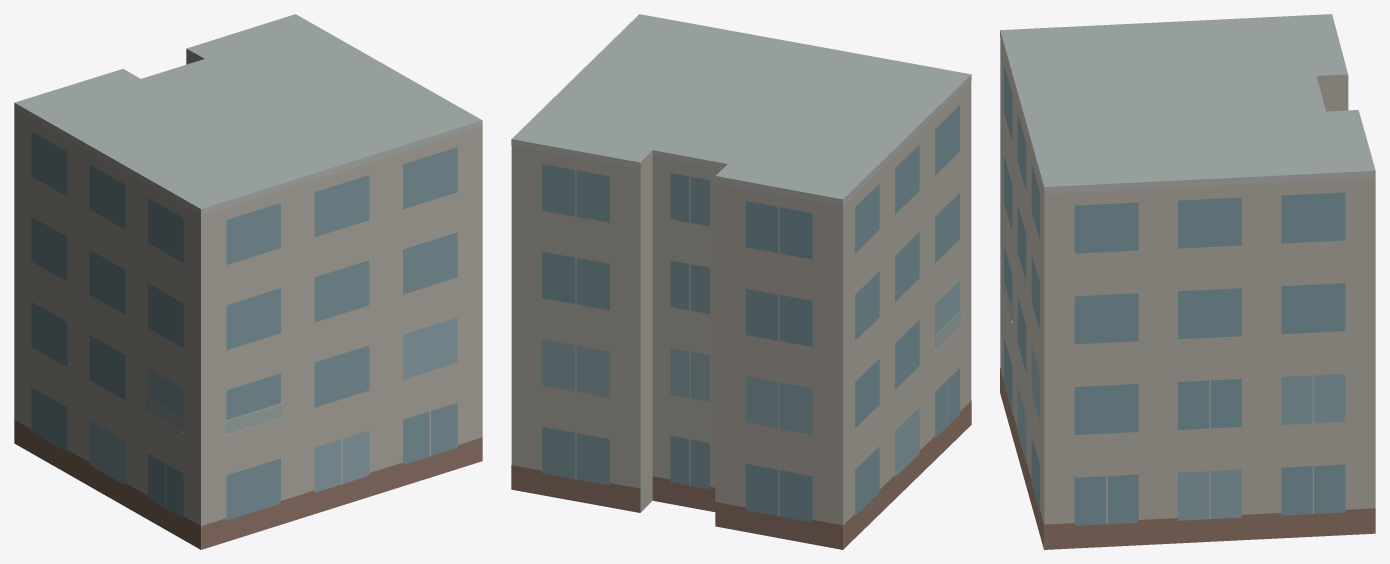
File: survey-upis-32671416.glb
3 renders of one model, left to right at view 1: azimuth 30°, elevation 25°; view 2: azimuth 150°, elevation 25°; view 3: azimuth 270°, elevation 25°, orthographic. The views are drawn at different scales.
Visible parts, largest first — view 1: survey-upis-32671416.tmp; view 2: survey-upis-32671416.tmp; view 3: survey-upis-32671416.tmp.
Boxes of the visible parts, x1,y1,x2,y2 form: survey-upis-32671416.tmp: (14,14,482,549); survey-upis-32671416.tmp: (511,14,971,549); survey-upis-32671416.tmp: (1000,14,1375,549).
Size of the model in its own units: 13.11 by 12.8 by 12.02.
